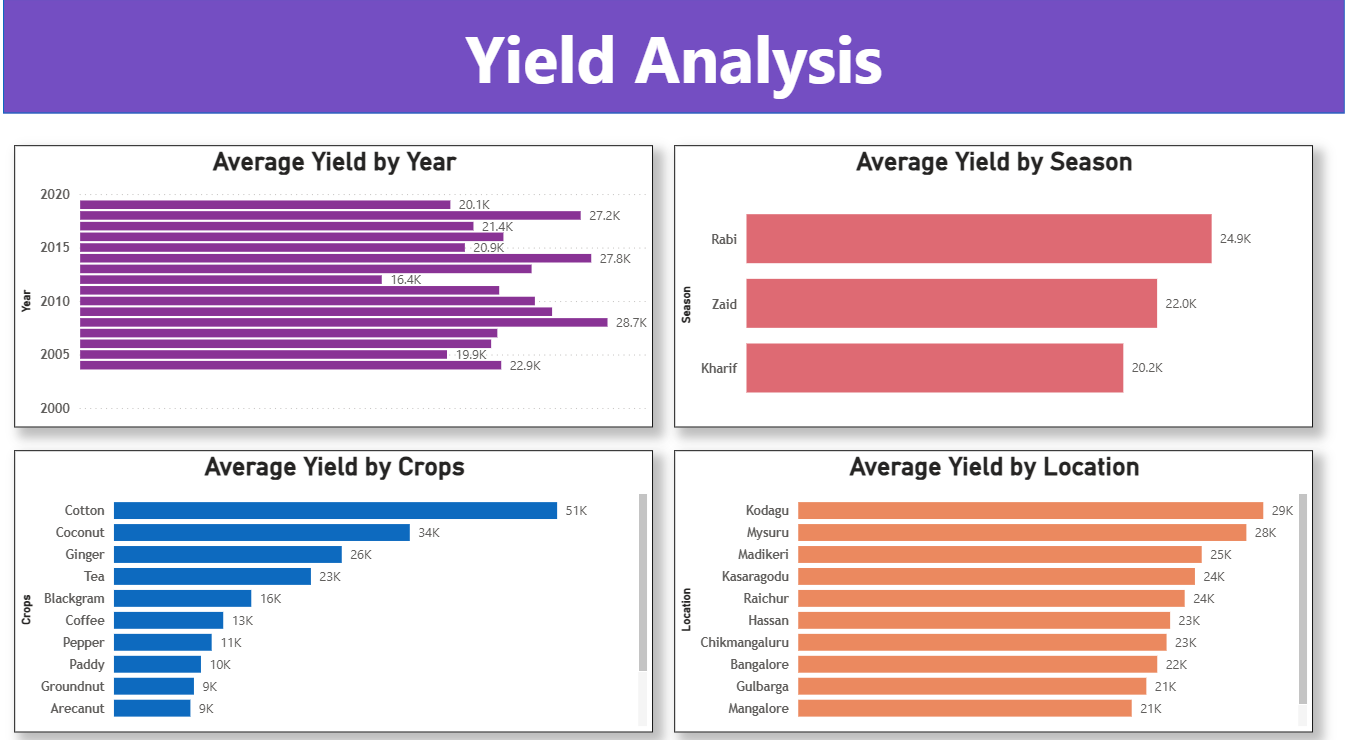

What the dashboard file says about the page in this screenshot:
{"tool":"powerbi","page":{"name":"Yield Analysis","canvas":[1280,720],"ordinal":3},"visuals":[{"type":"shape","box":[9.6,0,1270.7,108.4],"z":0},{"type":"barChart","fields":{"Category":["AGRICULTURE.YEAR"],"Y":["Avg(AGRICULTURE.YEILDS)"]},"box":[20.6,138.6,605.1,267.6],"z":1000},{"type":"barChart","fields":{"Category":["AGRICULTURE.SEASON"],"Y":["Avg(AGRICULTURE.YEILDS)"]},"box":[644.9,138.6,605.1,267.6],"z":2000},{"type":"barChart","fields":{"Category":["AGRICULTURE.CROPS"],"Y":["Avg(AGRICULTURE.YEILDS)"]},"box":[20.6,426.8,605.1,267.6],"z":3000},{"type":"barChart","fields":{"Category":["AGRICULTURE.LOCATION"],"Y":["Avg(AGRICULTURE.YEILDS)"]},"box":[644.9,426.8,605.1,267.6],"z":4000}]}

Visuals, with their boxes in screenshot pixels (x1, y1, x2, y2), scaled from the page's 1280x720 canvas onto the 1346x740 screenshot:
shape: x1=10, y1=0, x2=1345, y2=111
barChart - AGRICULTURE.YEAR x Avg(AGRICULTURE.YEILDS): x1=22, y1=142, x2=658, y2=417
barChart - AGRICULTURE.SEASON x Avg(AGRICULTURE.YEILDS): x1=678, y1=142, x2=1314, y2=417
barChart - AGRICULTURE.CROPS x Avg(AGRICULTURE.YEILDS): x1=22, y1=439, x2=658, y2=714
barChart - AGRICULTURE.LOCATION x Avg(AGRICULTURE.YEILDS): x1=678, y1=439, x2=1314, y2=714
